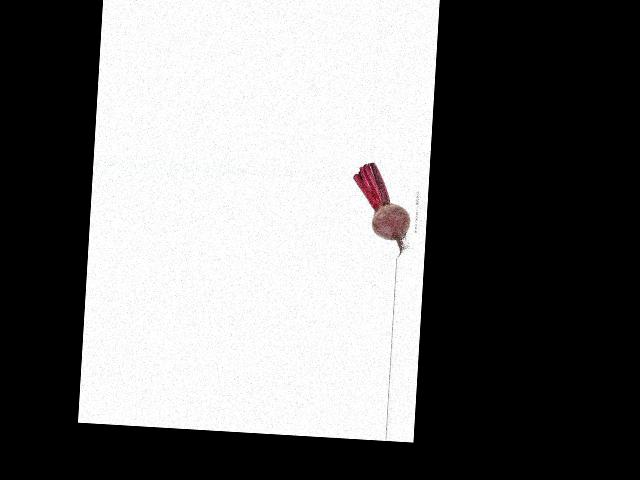beet: (349, 161, 413, 257)
